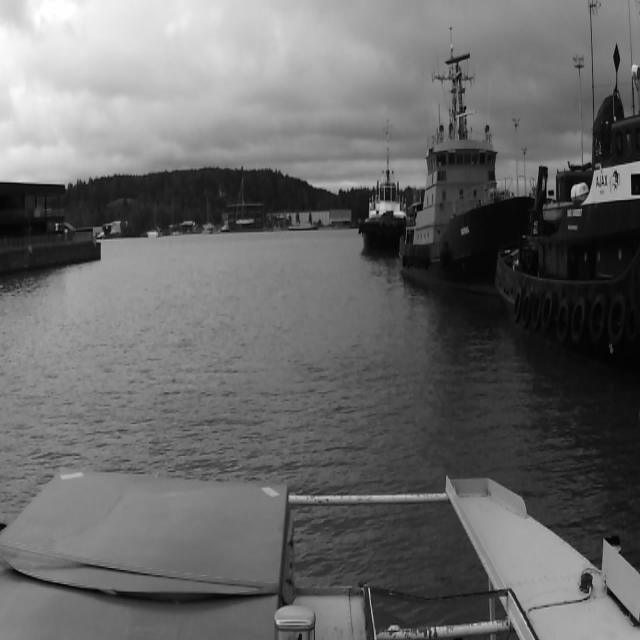ship: (498, 0, 640, 376), (400, 27, 496, 293), (360, 119, 402, 259), (236, 178, 254, 224)
